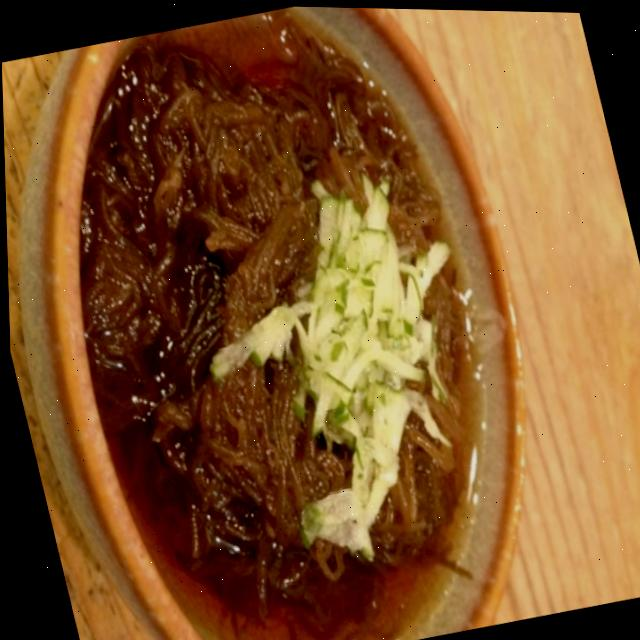蔬菜料理: (2, 0, 582, 640)
